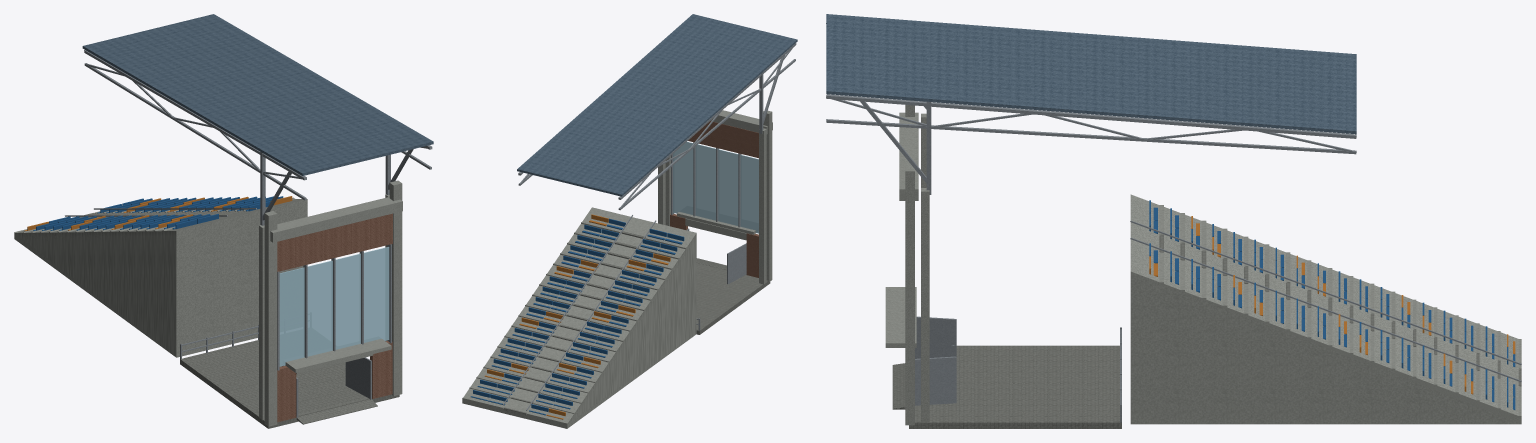
The model's file is PZ_Stadium_Entrance_Bay_10p5M.glb.
3 views of the same model, side by side, from view 1: azimuth 30°, elevation 25°; view 2: azimuth 150°, elevation 25°; view 3: azimuth 270°, elevation 25° (orthographic). The views are drawn at different scales.
Visible parts, largest first — view 1: REPEATABLE_STRAIGHT_ENTRY_BAY__ROOF_SHEET, REPEATABLE_STRAIGHT_ENTRY_BAY__SUPPORT_CONCRETE, REPEATABLE_STRAIGHT_ENTRY_BAY__GLAZED_FACADE, REPEATABLE_STRAIGHT_ENTRY_BAY__CONCOURSE_WALKABLE_FLOOR, REPEATABLE_STRAIGHT_ENTRY_BAY__FACADE_PIERS, REPEATABLE_STRAIGHT_ENTRY_BAY__SEAT_BLUE, REPEATABLE_STRAIGHT_ENTRY_BAY__FACADE_UPPER_FRIEZE, REPEATABLE_STRAIGHT_ENTRY_BAY__FACADE_CORNICE, REPEATABLE_STRAIGHT_ENTRY_BAY__FACADE_BRICK_INFILL, REPEATABLE_STRAIGHT_ENTRY_BAY__ROOF_TRUSS_CHORD, REPEATABLE_STRAIGHT_ENTRY_BAY__GLAZING_MULLIONS, REPEATABLE_STRAIGHT_ENTRY_BAY__ENTRANCE_OVERHANG (+9 smaller); view 2: REPEATABLE_STRAIGHT_ENTRY_BAY__SUPPORT_CONCRETE, REPEATABLE_STRAIGHT_ENTRY_BAY__ROOF_SHEET, REPEATABLE_STRAIGHT_ENTRY_BAY__SEAT_BLUE, REPEATABLE_STRAIGHT_ENTRY_BAY__GLAZED_FACADE, REPEATABLE_STRAIGHT_ENTRY_BAY__TERRACE_TREADS, REPEATABLE_STRAIGHT_ENTRY_BAY__CONCOURSE_WALKABLE_FLOOR, REPEATABLE_STRAIGHT_ENTRY_BAY__SEAT_AMBER, REPEATABLE_STRAIGHT_ENTRY_BAY__CONCOURSE_COLUMNS, REPEATABLE_STRAIGHT_ENTRY_BAY__FACADE_PIERS, REPEATABLE_STRAIGHT_ENTRY_BAY__FACADE_UPPER_FRIEZE, REPEATABLE_STRAIGHT_ENTRY_BAY__ROOF_TRUSS_CHORD, REPEATABLE_STRAIGHT_ENTRY_BAY__AISLE_STAIR_TREADS (+9 smaller); view 3: REPEATABLE_STRAIGHT_ENTRY_BAY__SUPPORT_CONCRETE, REPEATABLE_STRAIGHT_ENTRY_BAY__ROOF_SHEET, REPEATABLE_STRAIGHT_ENTRY_BAY__CONCOURSE_WALKABLE_FLOOR, REPEATABLE_STRAIGHT_ENTRY_BAY__TERRACE_TREADS, REPEATABLE_STRAIGHT_ENTRY_BAY__ROOF_TRUSS_CHORD, REPEATABLE_STRAIGHT_ENTRY_BAY__SEAT_BLUE, REPEATABLE_STRAIGHT_ENTRY_BAY__FACADE_PIERS, REPEATABLE_STRAIGHT_ENTRY_BAY__CONCOURSE_COLUMNS, REPEATABLE_STRAIGHT_ENTRY_BAY__AISLE_HANDRAILS, REPEATABLE_STRAIGHT_ENTRY_BAY__PIVOT_ENTRANCE_RIGHT_HINGE_Z_, REPEATABLE_STRAIGHT_ENTRY_BAY__ROOF_TRUSS_BRACES, REPEATABLE_STRAIGHT_ENTRY_BAY__ENTRANCE_OVERHANG (+6 smaller).
Boxes of the visible parts, x1=… form: REPEATABLE_STRAIGHT_ENTRY_BAY__ROOF_SHEET: x1=82, y1=14, x2=433, y2=175; REPEATABLE_STRAIGHT_ENTRY_BAY__SUPPORT_CONCRETE: x1=14, y1=199, x2=307, y2=357; REPEATABLE_STRAIGHT_ENTRY_BAY__GLAZED_FACADE: x1=279, y1=247, x2=389, y2=366; REPEATABLE_STRAIGHT_ENTRY_BAY__CONCOURSE_WALKABLE_FLOOR: x1=180, y1=340, x2=399, y2=428; REPEATABLE_STRAIGHT_ENTRY_BAY__FACADE_PIERS: x1=264, y1=180, x2=402, y2=426; REPEATABLE_STRAIGHT_ENTRY_BAY__SEAT_BLUE: x1=33, y1=196, x2=283, y2=230; REPEATABLE_STRAIGHT_ENTRY_BAY__FACADE_UPPER_FRIEZE: x1=277, y1=213, x2=392, y2=271; REPEATABLE_STRAIGHT_ENTRY_BAY__FACADE_CORNICE: x1=270, y1=197, x2=402, y2=242; REPEATABLE_STRAIGHT_ENTRY_BAY__FACADE_BRICK_INFILL: x1=277, y1=341, x2=392, y2=422; REPEATABLE_STRAIGHT_ENTRY_BAY__ROOF_TRUSS_CHORD: x1=84, y1=50, x2=432, y2=200; REPEATABLE_STRAIGHT_ENTRY_BAY__GLAZING_MULLIONS: x1=277, y1=244, x2=391, y2=370; REPEATABLE_STRAIGHT_ENTRY_BAY__ENTRANCE_OVERHANG: x1=285, y1=338, x2=391, y2=372; REPEATABLE_STRAIGHT_ENTRY_BAY__SUPPORT_CONCRETE: x1=462, y1=207, x2=696, y2=428; REPEATABLE_STRAIGHT_ENTRY_BAY__ROOF_SHEET: x1=517, y1=14, x2=797, y2=196; REPEATABLE_STRAIGHT_ENTRY_BAY__SEAT_BLUE: x1=470, y1=218, x2=684, y2=415; REPEATABLE_STRAIGHT_ENTRY_BAY__GLAZED_FACADE: x1=673, y1=141, x2=758, y2=233; REPEATABLE_STRAIGHT_ENTRY_BAY__TERRACE_TREADS: x1=462, y1=221, x2=691, y2=425; REPEATABLE_STRAIGHT_ENTRY_BAY__CONCOURSE_WALKABLE_FLOOR: x1=696, y1=261, x2=770, y2=334; REPEATABLE_STRAIGHT_ENTRY_BAY__SEAT_AMBER: x1=484, y1=214, x2=670, y2=419; REPEATABLE_STRAIGHT_ENTRY_BAY__CONCOURSE_COLUMNS: x1=658, y1=128, x2=766, y2=284; REPEATABLE_STRAIGHT_ENTRY_BAY__FACADE_PIERS: x1=665, y1=110, x2=772, y2=281; REPEATABLE_STRAIGHT_ENTRY_BAY__FACADE_UPPER_FRIEZE: x1=688, y1=121, x2=758, y2=158; REPEATABLE_STRAIGHT_ENTRY_BAY__ROOF_TRUSS_CHORD: x1=518, y1=43, x2=796, y2=210; REPEATABLE_STRAIGHT_ENTRY_BAY__AISLE_STAIR_TREADS: x1=503, y1=231, x2=645, y2=415; REPEATABLE_STRAIGHT_ENTRY_BAY__SUPPORT_CONCRETE: x1=1130, y1=194, x2=1521, y2=424; REPEATABLE_STRAIGHT_ENTRY_BAY__ROOF_SHEET: x1=826, y1=14, x2=1356, y2=134; REPEATABLE_STRAIGHT_ENTRY_BAY__CONCOURSE_WALKABLE_FLOOR: x1=909, y1=345, x2=1121, y2=428; REPEATABLE_STRAIGHT_ENTRY_BAY__TERRACE_TREADS: x1=1144, y1=205, x2=1521, y2=419; REPEATABLE_STRAIGHT_ENTRY_BAY__ROOF_TRUSS_CHORD: x1=826, y1=94, x2=1356, y2=154; REPEATABLE_STRAIGHT_ENTRY_BAY__SEAT_BLUE: x1=1149, y1=200, x2=1515, y2=409; REPEATABLE_STRAIGHT_ENTRY_BAY__FACADE_PIERS: x1=905, y1=100, x2=914, y2=425; REPEATABLE_STRAIGHT_ENTRY_BAY__CONCOURSE_COLUMNS: x1=921, y1=113, x2=929, y2=422; REPEATABLE_STRAIGHT_ENTRY_BAY__AISLE_HANDRAILS: x1=1130, y1=220, x2=1521, y2=381; REPEATABLE_STRAIGHT_ENTRY_BAY__PIVOT_ENTRANCE_RIGHT_HINGE_Z_: x1=915, y1=356, x2=956, y2=405; REPEATABLE_STRAIGHT_ENTRY_BAY__ROOF_TRUSS_BRACES: x1=826, y1=23, x2=1353, y2=151; REPEATABLE_STRAIGHT_ENTRY_BAY__ENTRANCE_OVERHANG: x1=885, y1=287, x2=916, y2=347.
Size of the model in its own units: 10.7 by 21.45 by 40.03.
Materials: 9 (7 with a texture image).
